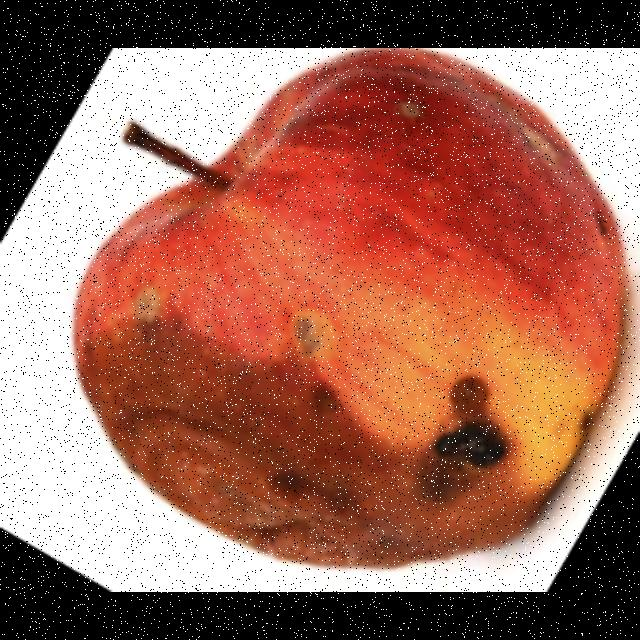Apel Tidak Segar: (82, 67, 626, 575)
